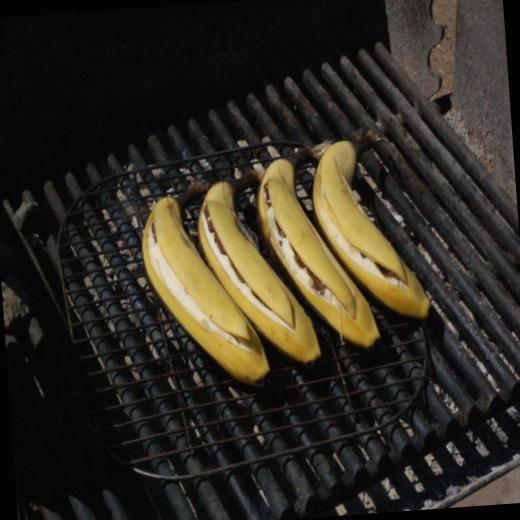Banana: (136, 188, 268, 396), (192, 171, 324, 372), (253, 151, 378, 354), (308, 128, 434, 326)
